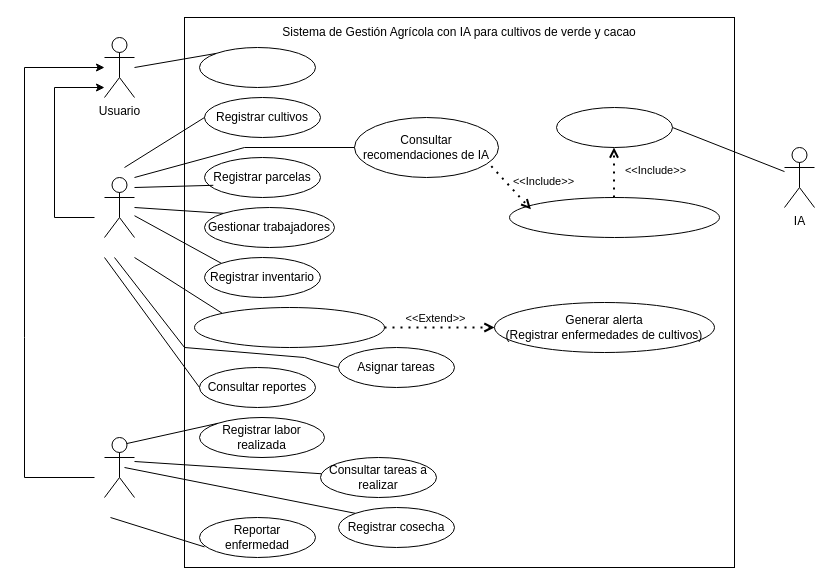
This 832x585 diagram has some shape labels left out. Here are the shapes that lost their labels. From the top down, the box of each, then its label:
(198, 46, 316, 88): Iniciar sesión
(556, 106, 672, 148): Analizar datos de cultivos
(104, 176, 134, 238): Administrador
(508, 196, 720, 238): Generar recomendaciones de cultivos
(194, 306, 384, 348): Registrar enfermedades de cultivos
(104, 436, 134, 498): Jornalero
